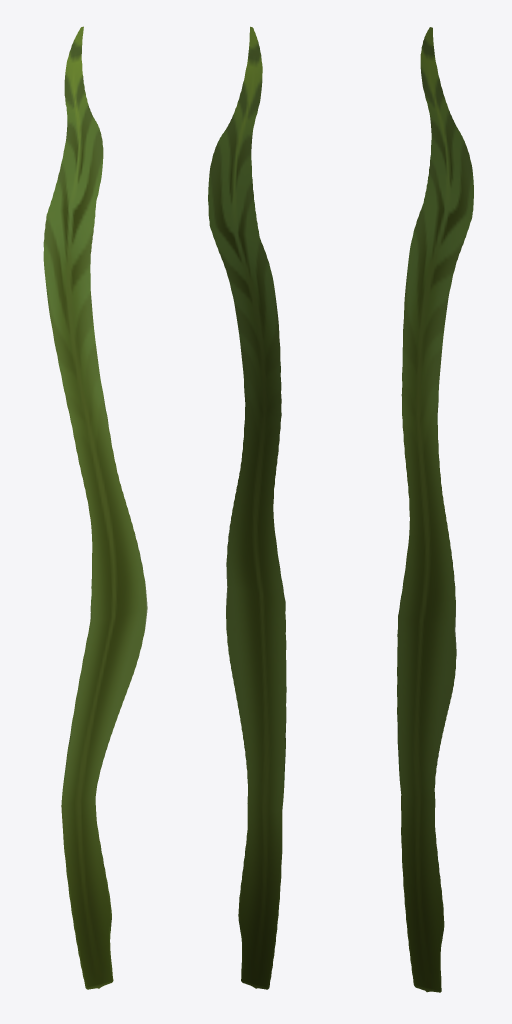
File: SeaWeed_05.FBX
3 views of the same model, side by side, from view 1: azimuth 30°, elevation 25°; view 2: azimuth 150°, elevation 25°; view 3: azimuth 330°, elevation 25° (orthographic).
Parts seen in each view (by area): view 1: SeaWeed_05; view 2: SeaWeed_05; view 3: SeaWeed_05.
Boxes of the visible parts, x1,y1,x2,y2 form: SeaWeed_05: [43, 26, 147, 989]; SeaWeed_05: [208, 26, 286, 989]; SeaWeed_05: [397, 27, 473, 992].
Bounding box in the file's own units: 8.47 × 72.53 × 4.68.
